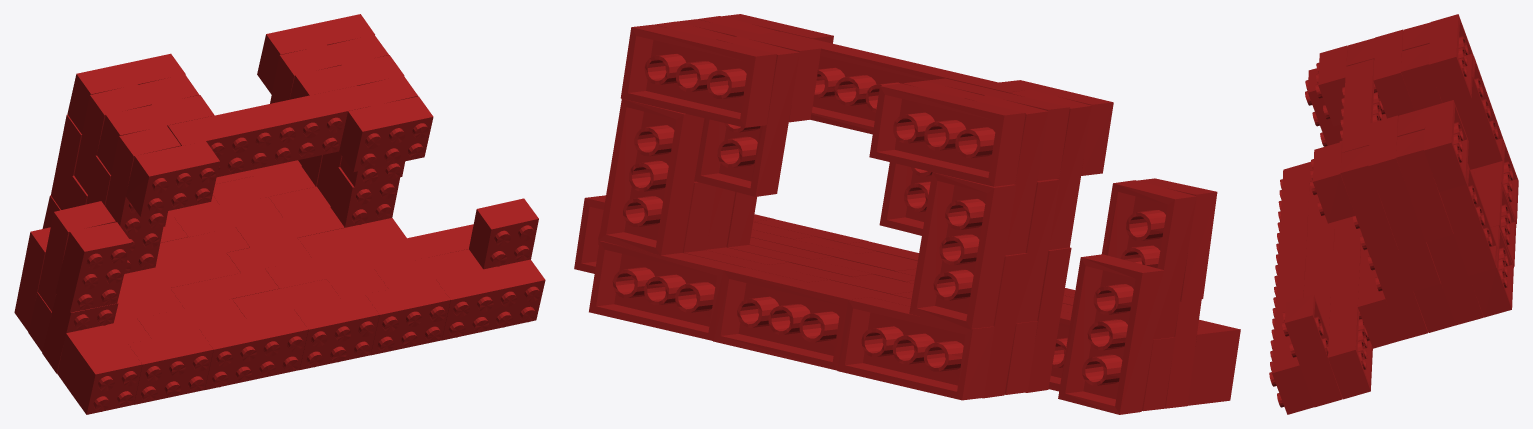
Rendered from HTC_Desire_holder.obj.
3 renders of one model, left to right at view 1: azimuth 30°, elevation 25°; view 2: azimuth 150°, elevation 25°; view 3: azimuth 270°, elevation 25°, orthographic. The views are drawn at different scales.
Parts seen in each view (by area): view 1: Brick__2_x__8__01, Brick__2_x__4__36, Brick__2_x__4__38, Brick__2_x__3__02, Brick__2_x__3__01, Brick__2_x__3__07, Brick__2_x_10__01, Brick__2_x__3__09, Brick__2_x__3__10, Brick__2_x__3__08, Brick__2_x__4__37, Brick__2_x__2__02 (+33 smaller); view 2: Brick__2_x__4__30, Brick__2_x__4__06, Brick__2_x__4__08, Brick__2_x__4__13, Brick__2_x__4__16, Brick__2_x__4__01, Brick__2_x__4__02, Brick__2_x__4__03, Brick__2_x__4__31, Brick__2_x__4__18, Brick__2_x__8__01, Brick__2_x__4__14 (+26 smaller); view 3: Brick__2_x_10__01, Brick__2_x__4__37, Brick__2_x__4__08, Brick__2_x__4__27, Brick__2_x__4__16, Brick__2_x__4__17, Brick__2_x__4__13, Brick__2_x__8__01, Brick__2_x__4__06, Brick__2_x__4__26, Brick__2_x__4__21, Brick__2_x__4__09 (+25 smaller).
Boxes of the visible parts, x1,y1,x2,y2 form: Brick__2_x__8__01: (167,85,370,177); Brick__2_x__4__36: (199,309,308,389); Brick__2_x__4__38: (436,259,545,340); Brick__2_x__3__02: (339,96,433,171); Brick__2_x__3__01: (125,141,219,216); Brick__2_x__3__07: (55,222,131,312); Brick__2_x_10__01: (265,224,473,288); Brick__2_x__3__09: (294,294,379,369); Brick__2_x__3__10: (365,279,450,355); Brick__2_x__3__08: (128,329,213,404); Brick__2_x__4__37: (469,198,538,269); Brick__2_x__2__02: (72,344,142,414); Brick__2_x__4__30: (1058,254,1164,414); Brick__2_x__4__06: (909,172,1016,329); Brick__2_x__4__08: (599,98,704,255); Brick__2_x__4__13: (869,83,1025,186); Brick__2_x__4__16: (620,24,777,127); Brick__2_x__4__01: (837,297,994,400); Brick__2_x__4__02: (713,267,869,370); Brick__2_x__4__03: (589,241,743,340); Brick__2_x__4__31: (1102,180,1196,339); Brick__2_x__4__18: (694,36,799,196); Brick__2_x__8__01: (760,31,1028,134); Brick__2_x__4__14: (965,95,1048,255); Brick__2_x_10__01: (1328,242,1372,399); Brick__2_x__4__37: (1282,294,1342,407); Brick__2_x__4__08: (1439,163,1497,275); Brick__2_x__4__27: (1340,145,1398,257); Brick__2_x__4__16: (1424,100,1468,191); Brick__2_x__4__17: (1396,129,1453,241); Brick__2_x__4__13: (1428,14,1473,102); Brick__2_x__8__01: (1339,59,1386,152); Brick__2_x__4__06: (1455,56,1503,168); Brick__2_x__4__26: (1367,250,1427,340); Brick__2_x__4__21: (1383,200,1440,291); Brick__2_x__4__09: (1426,234,1483,325).
Size of the model in its own units: 15.29 by 8.71 by 8.2.
